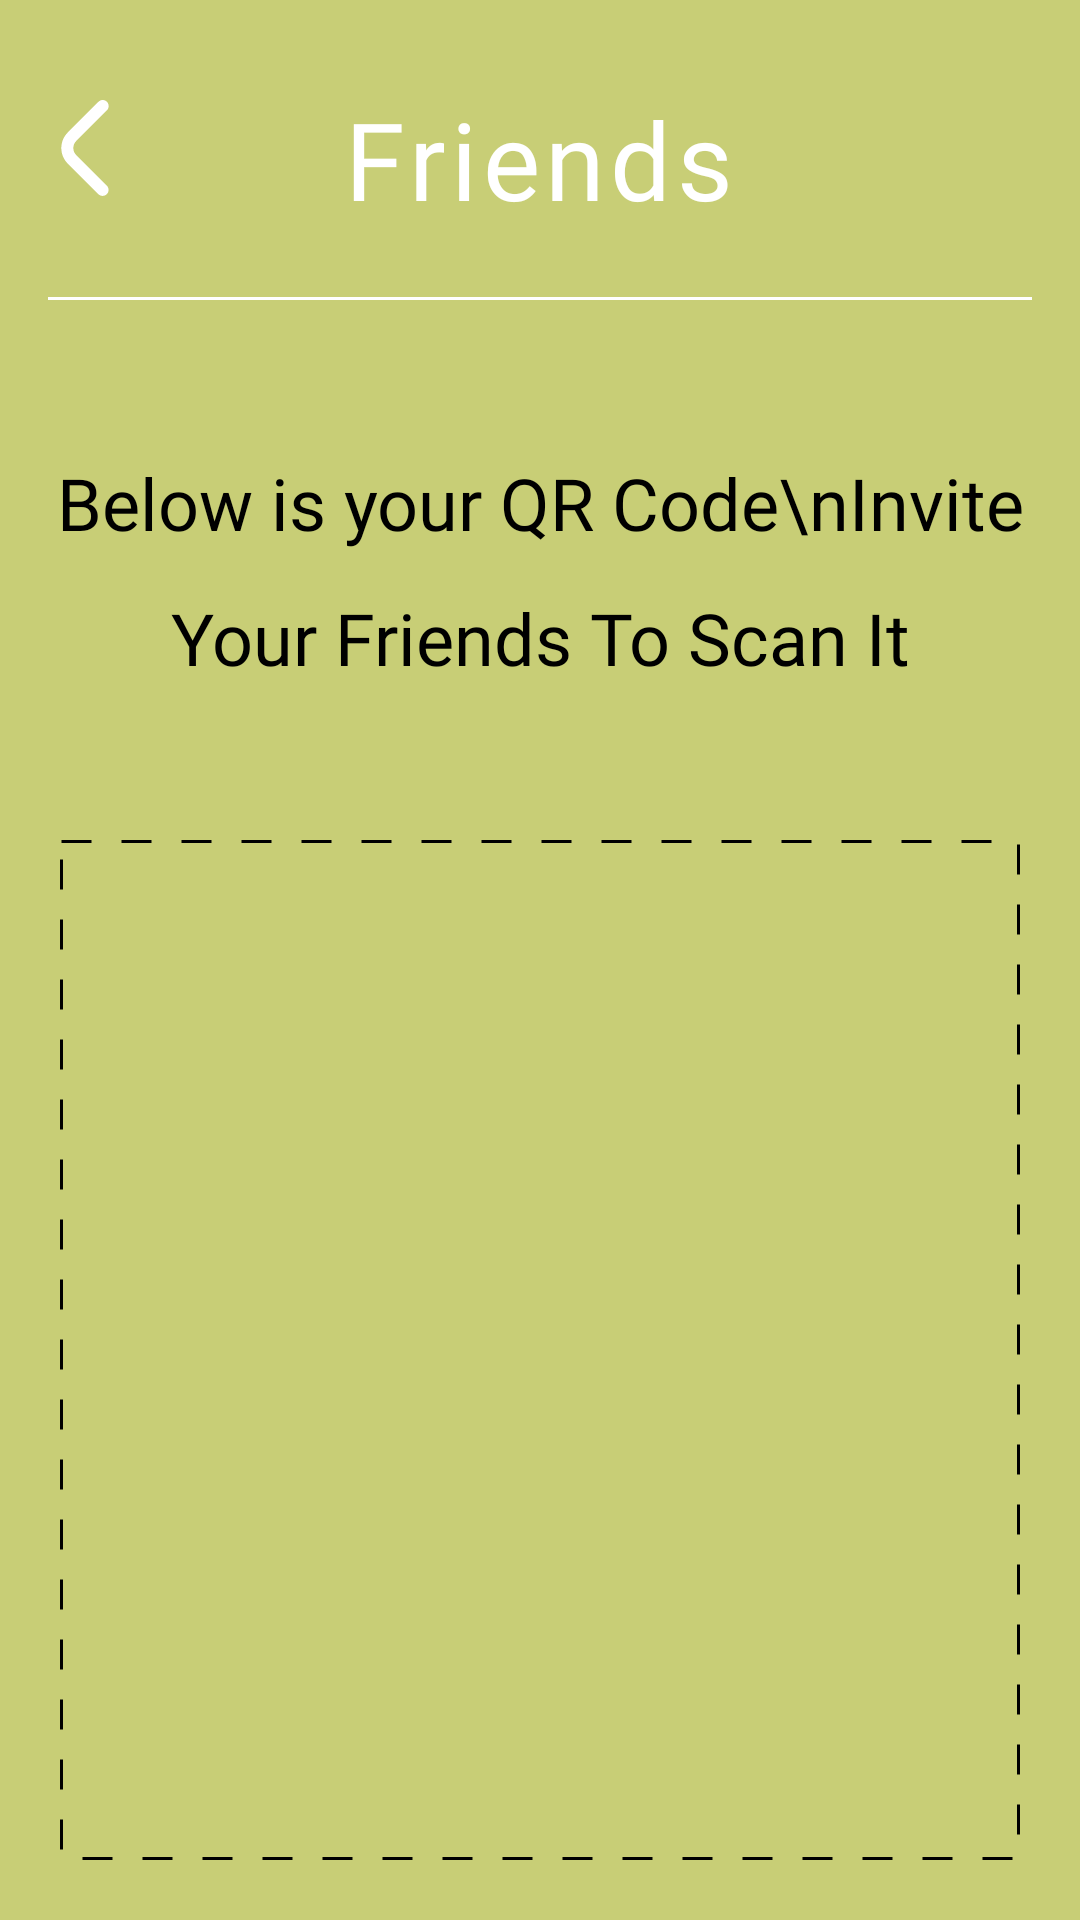

Screen size 1080px×1920px. Icon name, then its center in pixels as point (x, y):
back page: point (85, 148)
